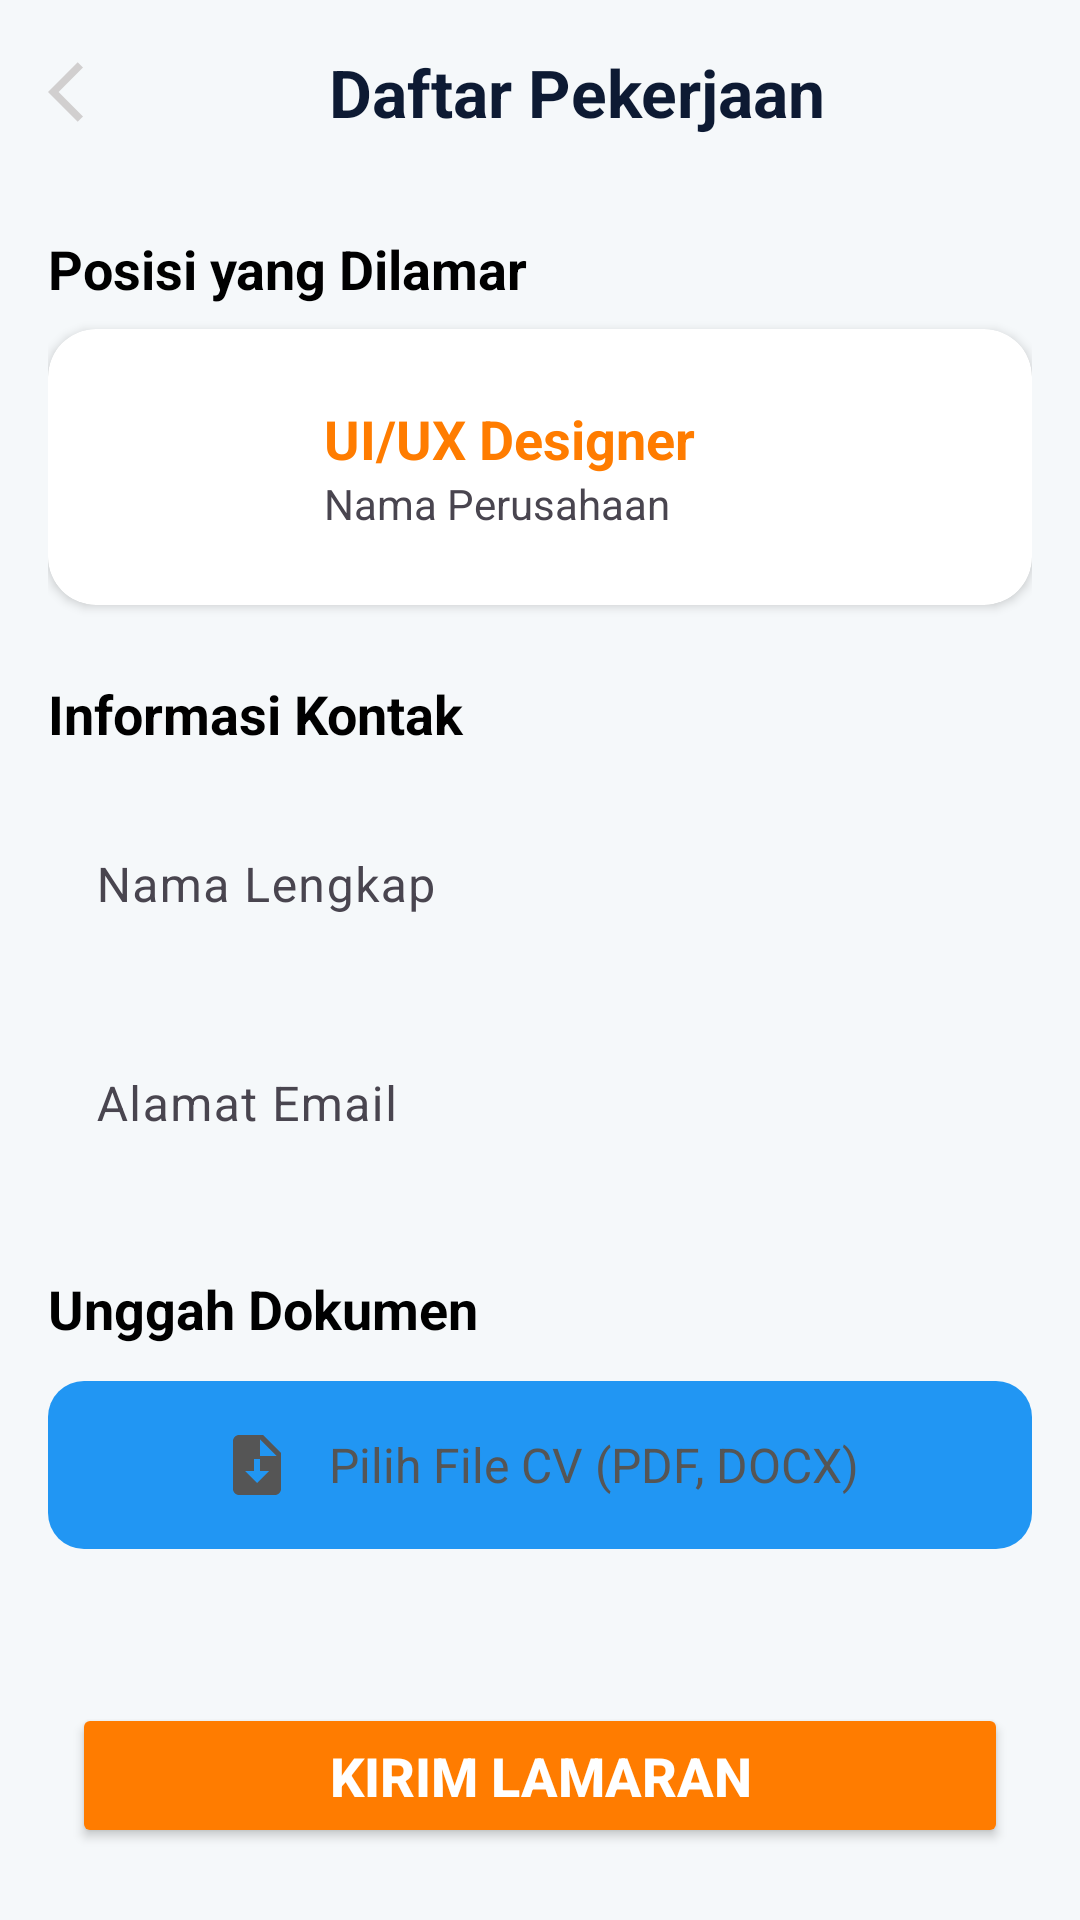

Where to tap for icons on this 1080px×1920px app screen, as (x,y):
Tombol Kembali: (66,92)
